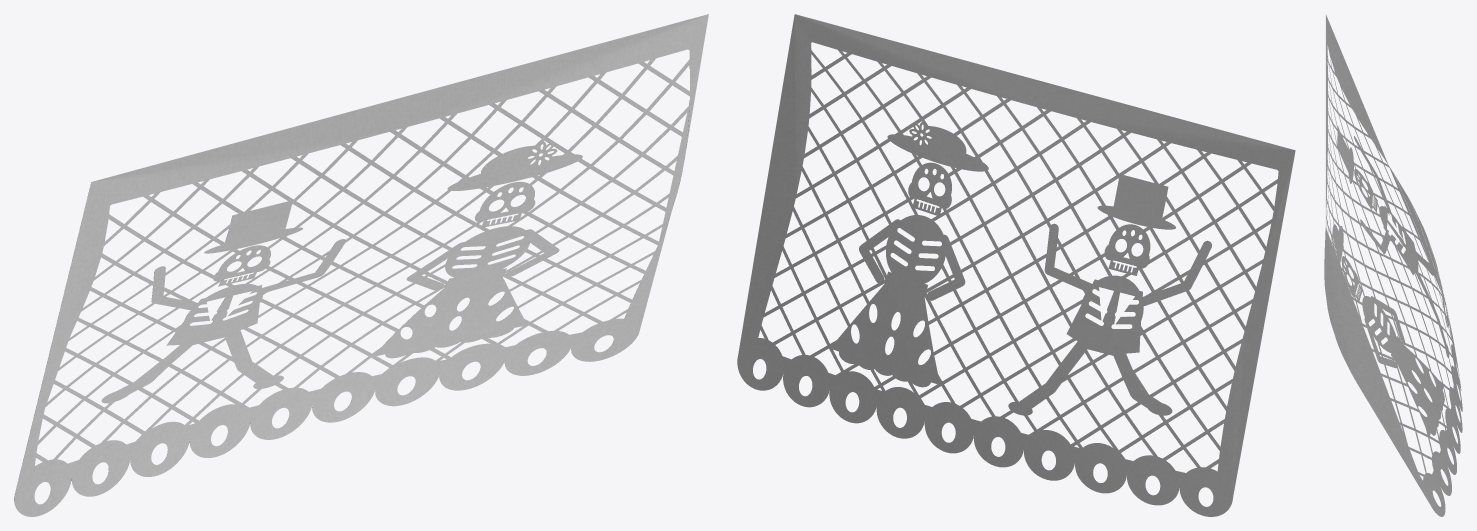
Rendered from papel_4_animado.glb.
3 renders of one model, left to right at view 1: azimuth 30°, elevation 25°; view 2: azimuth 150°, elevation 25°; view 3: azimuth 270°, elevation 25°, orthographic. The views are drawn at different scales.
Parts seen in each view (by area): view 1: Papel_4; view 2: Papel_4; view 3: Papel_4.
Part boxes in pixels (x1,y1,x2,y2): Papel_4: (14,14,708,516); Papel_4: (737,14,1295,516); Papel_4: (1324,14,1462,516).
Size of the model in its own units: 0.58 by 0.3743 by 0.1499.
1 material, 1 textured.
